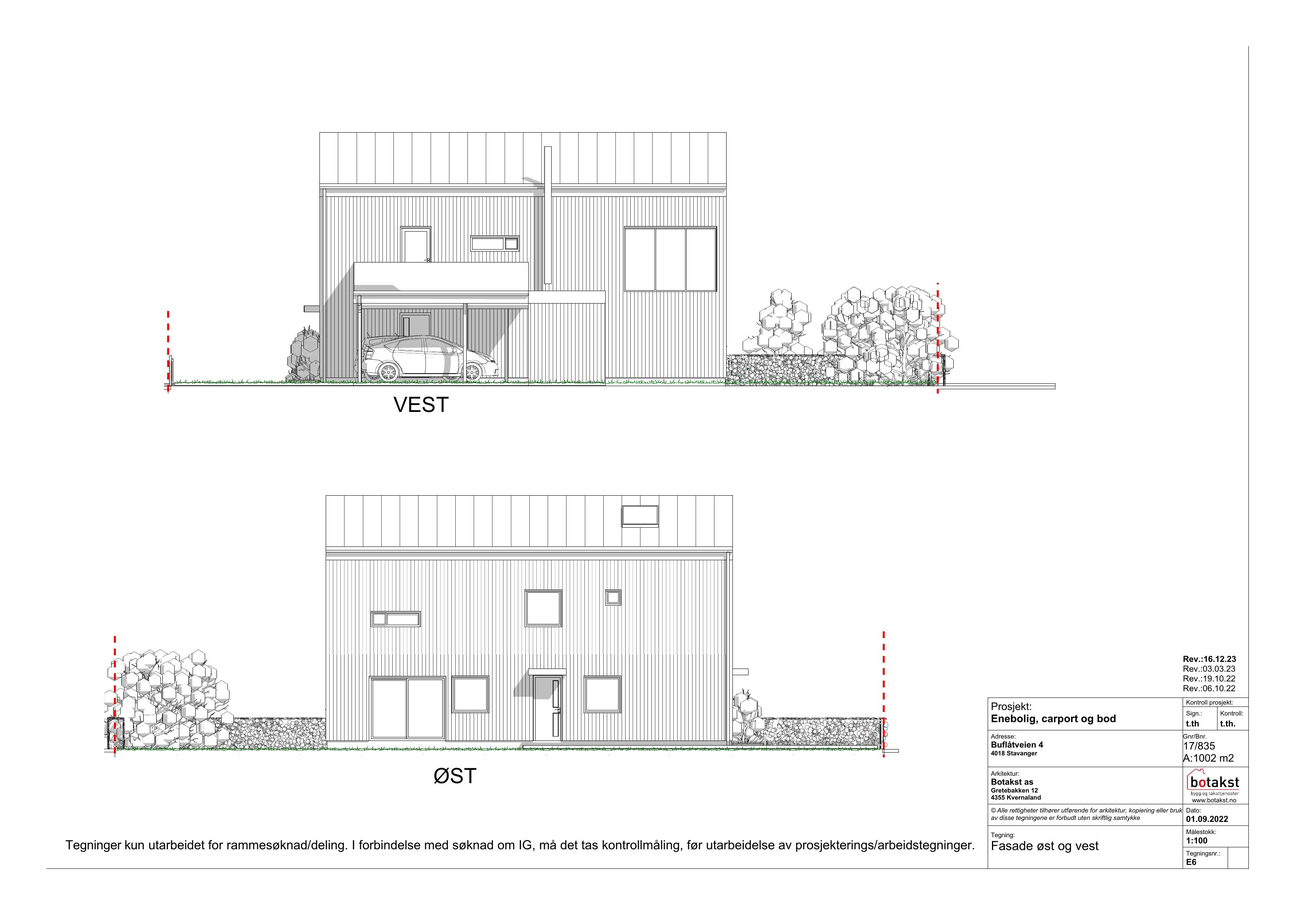fasade: (302, 133, 729, 382), (325, 496, 732, 746)
